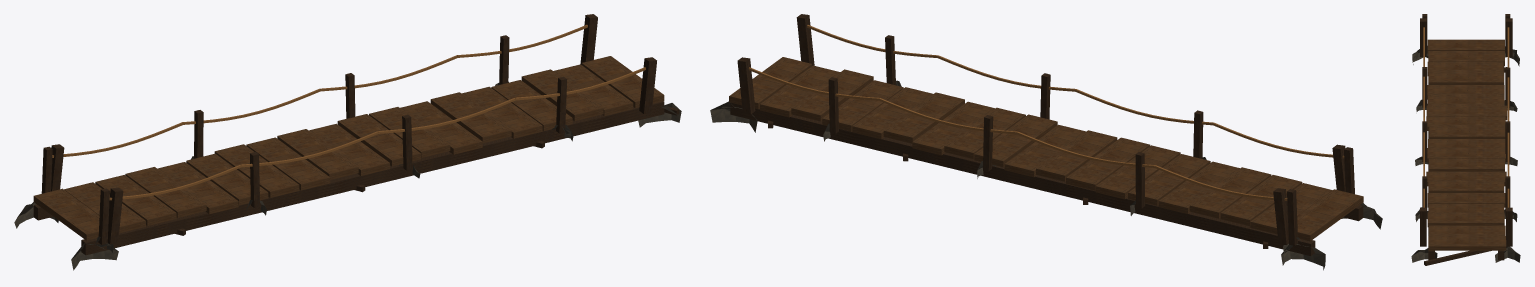
File: old_creek_footbridge.glb
The picture shows the model from 3 angles, left to right: view 1: azimuth 30°, elevation 25°; view 2: azimuth 150°, elevation 25°; view 3: azimuth 270°, elevation 25°; orthographic projection. The views are drawn at different scales.
Visible parts, largest first — view 1: oak_planks_and_supports, dark_timber_and_frame, weathered_rope, broken_fieldstone; view 2: oak_planks_and_supports, dark_timber_and_frame, weathered_rope, broken_fieldstone; view 3: oak_planks_and_supports, dark_timber_and_frame, broken_fieldstone, weathered_rope.
Boxes of the visible parts, box(x1,y1,x2,y2) form: oak_planks_and_supports: box(33, 56, 664, 240); dark_timber_and_frame: box(33, 14, 679, 255); weathered_rope: box(52, 24, 645, 200); broken_fieldstone: box(14, 81, 681, 270); oak_planks_and_supports: box(729, 57, 1363, 241); dark_timber_and_frame: box(730, 14, 1363, 255); weathered_rope: box(748, 25, 1344, 200); broken_fieldstone: box(710, 80, 1382, 270); oak_planks_and_supports: box(1426, 39, 1507, 250); dark_timber_and_frame: box(1420, 14, 1512, 265); broken_fieldstone: box(1411, 46, 1520, 262); weathered_rope: box(1423, 27, 1509, 207).
Bounding box in the file's own units: 13.67 × 1.56 × 2.9.
Materials: 4 (4 with a texture image).
